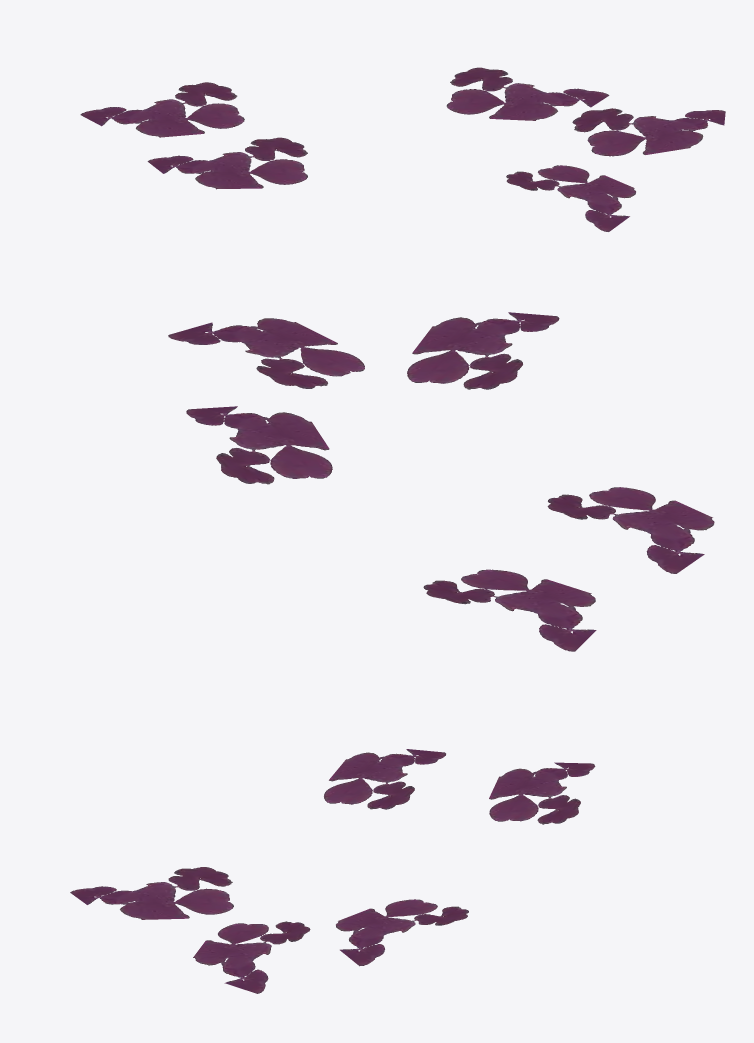
The picture shows the model from 3 angles, top to bottom: view 1: azimuth 30°, elevation 25°; view 2: azimuth 150°, elevation 25°; view 3: azimuth 270°, elevation 25°; orthographic projection. The views are drawn at different scales.
Parts seen in each view (by area): view 1: SM_GF_Sorrel_D_LOD0; view 2: SM_GF_Sorrel_D_LOD0; view 3: SM_GF_Sorrel_D_LOD0.
Boxes of the visible parts, x1,y1,x2,y2 form: SM_GF_Sorrel_D_LOD0: (80,67,725,231); SM_GF_Sorrel_D_LOD0: (168,312,714,651); SM_GF_Sorrel_D_LOD0: (70,749,595,993).
Size of the model in its own units: 0.782 by 0.0452 by 0.8798.
Materials: 1 (1 with a texture image).
